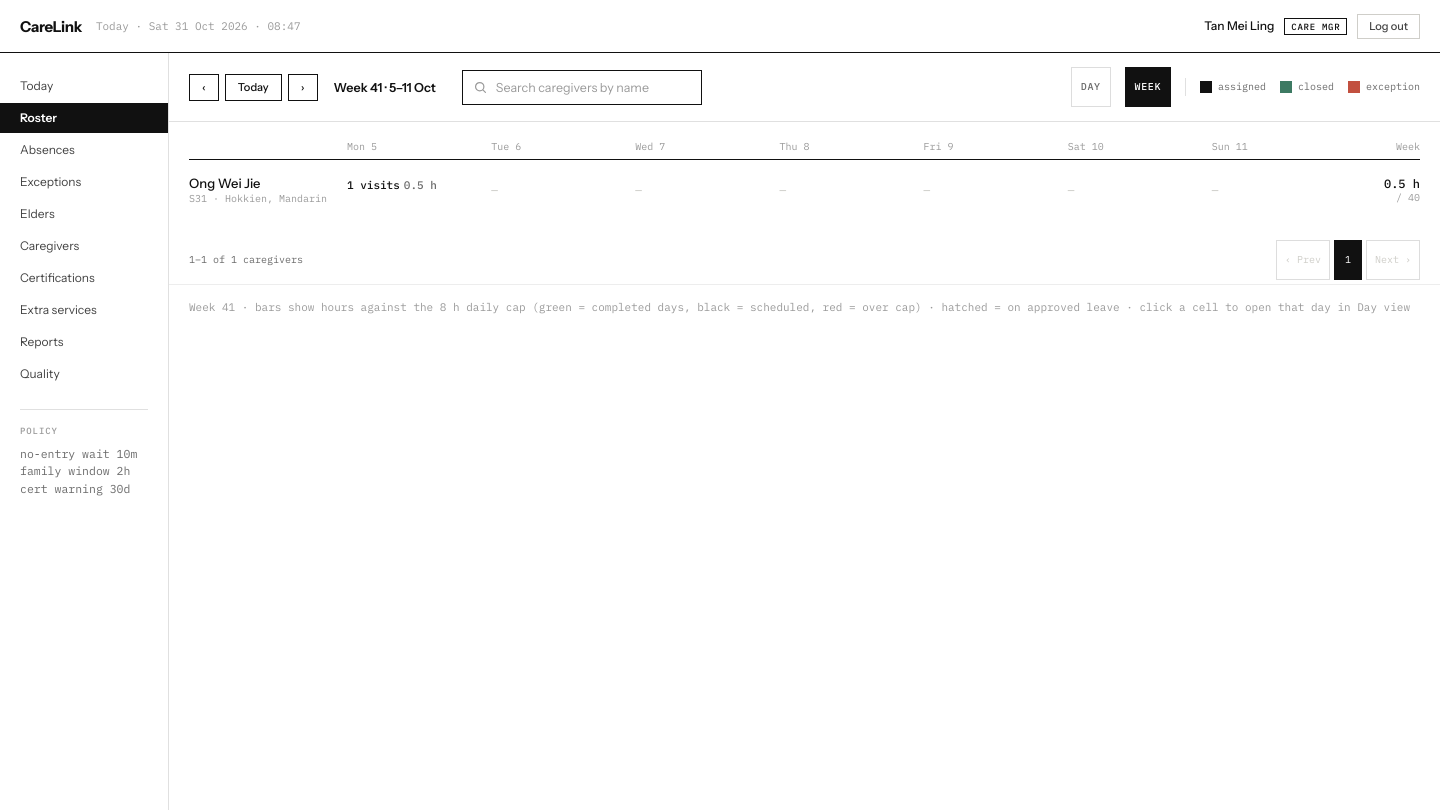
Test: steps to the next week
Click the button named "Next week": (303, 87) [288,74,318,100]
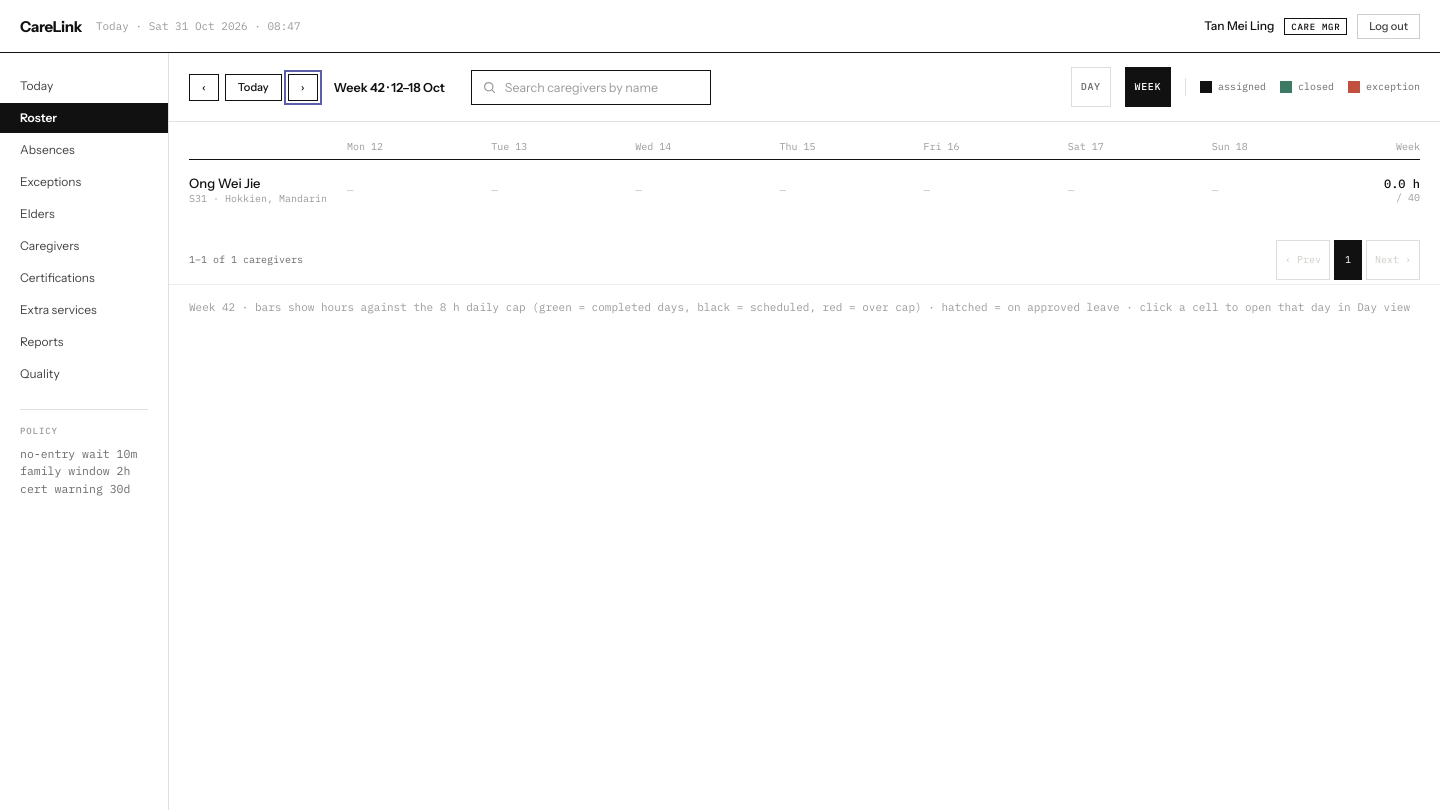
Expected: the header does not show "Roster", [0,0,1439,53]
Result: the text "Week 42 · 12–18 Oct" is shown at [334,80,445,95]
